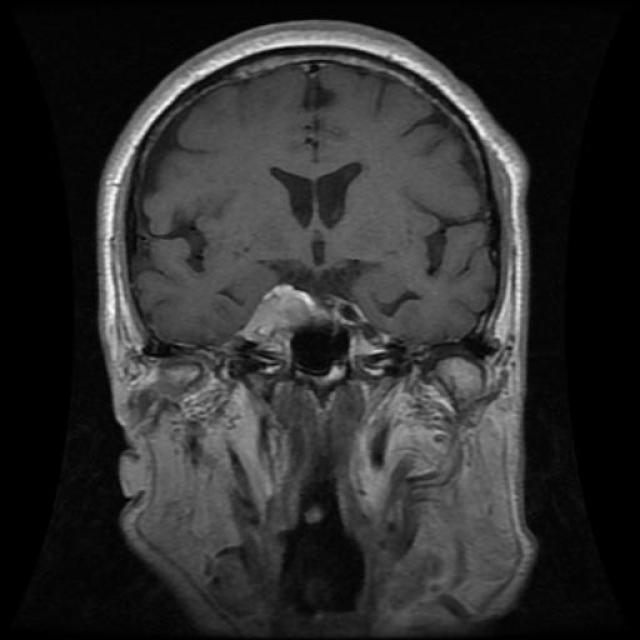meningioma: (244, 267, 353, 378)
